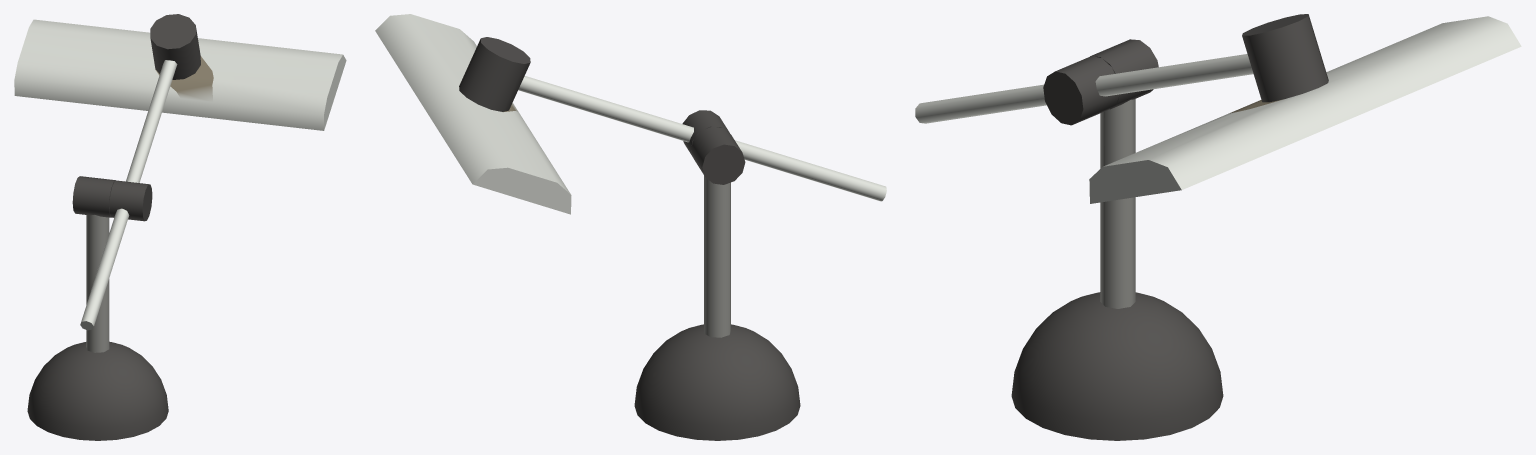
3 views of the same model, side by side, from view 1: azimuth 30°, elevation 25°; view 2: azimuth 150°, elevation 25°; view 3: azimuth 270°, elevation 25° (orthographic). The views are drawn at different scales.
Visible parts, largest first — view 1: Joint_0_Object_1, Joint_0_Object_0; view 2: Joint_0_Object_1, Joint_0_Object_0; view 3: Joint_0_Object_0, Joint_0_Object_1.
Boxes of the visible parts, bbox=[...] form: Joint_0_Object_1: bbox=[14, 19, 346, 352]; Joint_0_Object_0: bbox=[27, 14, 200, 440]; Joint_0_Object_1: bbox=[375, 14, 886, 337]; Joint_0_Object_0: bbox=[459, 37, 800, 440]; Joint_0_Object_0: bbox=[1011, 14, 1328, 440]; Joint_0_Object_1: bbox=[915, 16, 1521, 308].
Bounding box in the file's own units: 1278 × 1111 × 1278.
